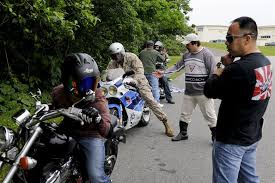helmet: (57, 50, 103, 103), (104, 41, 129, 62)
